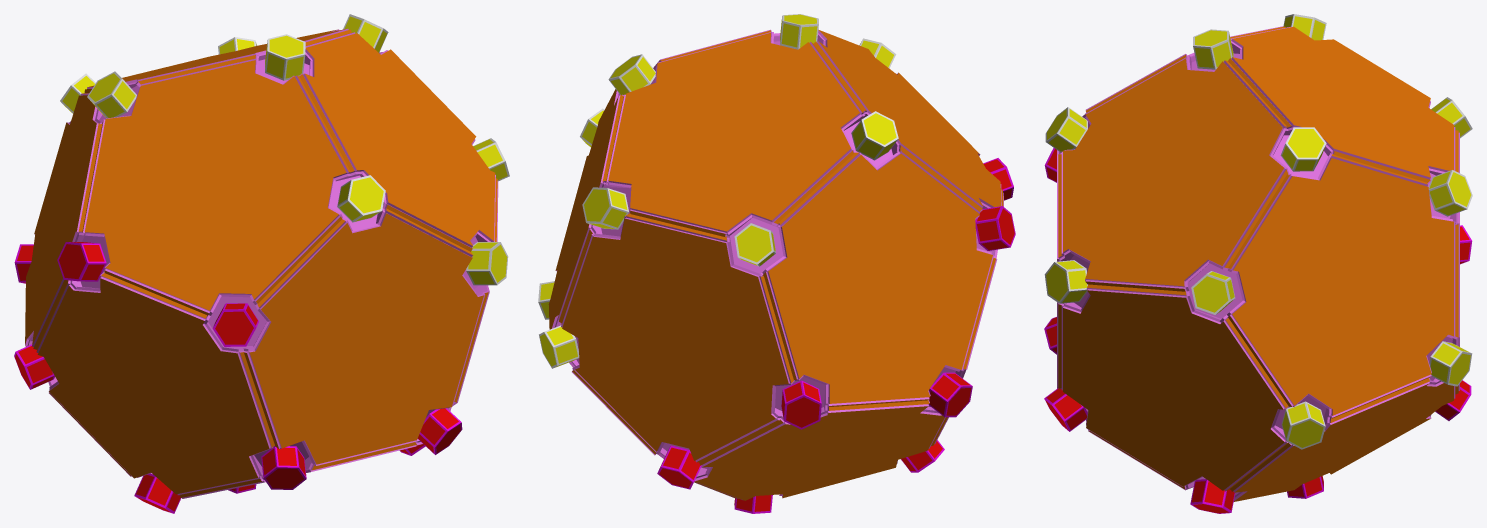
File: Dodecahedron_LowRes_v01.FBX
3 renders of one model, left to right at view 1: azimuth 30°, elevation 25°; view 2: azimuth 150°, elevation 25°; view 3: azimuth 270°, elevation 25°, orthographic. The views are drawn at different scales.
Parts seen in each view (by area): view 1: GEARS; view 2: GEARS; view 3: GEARS.
Part boxes in pixels (x1,y1,x2,y2): GEARS: (14,14,509,513); GEARS: (538,14,1015,513); GEARS: (1044,14,1472,513).
Bounding box in the file's own units: 20.23 × 20.93 × 17.76.
